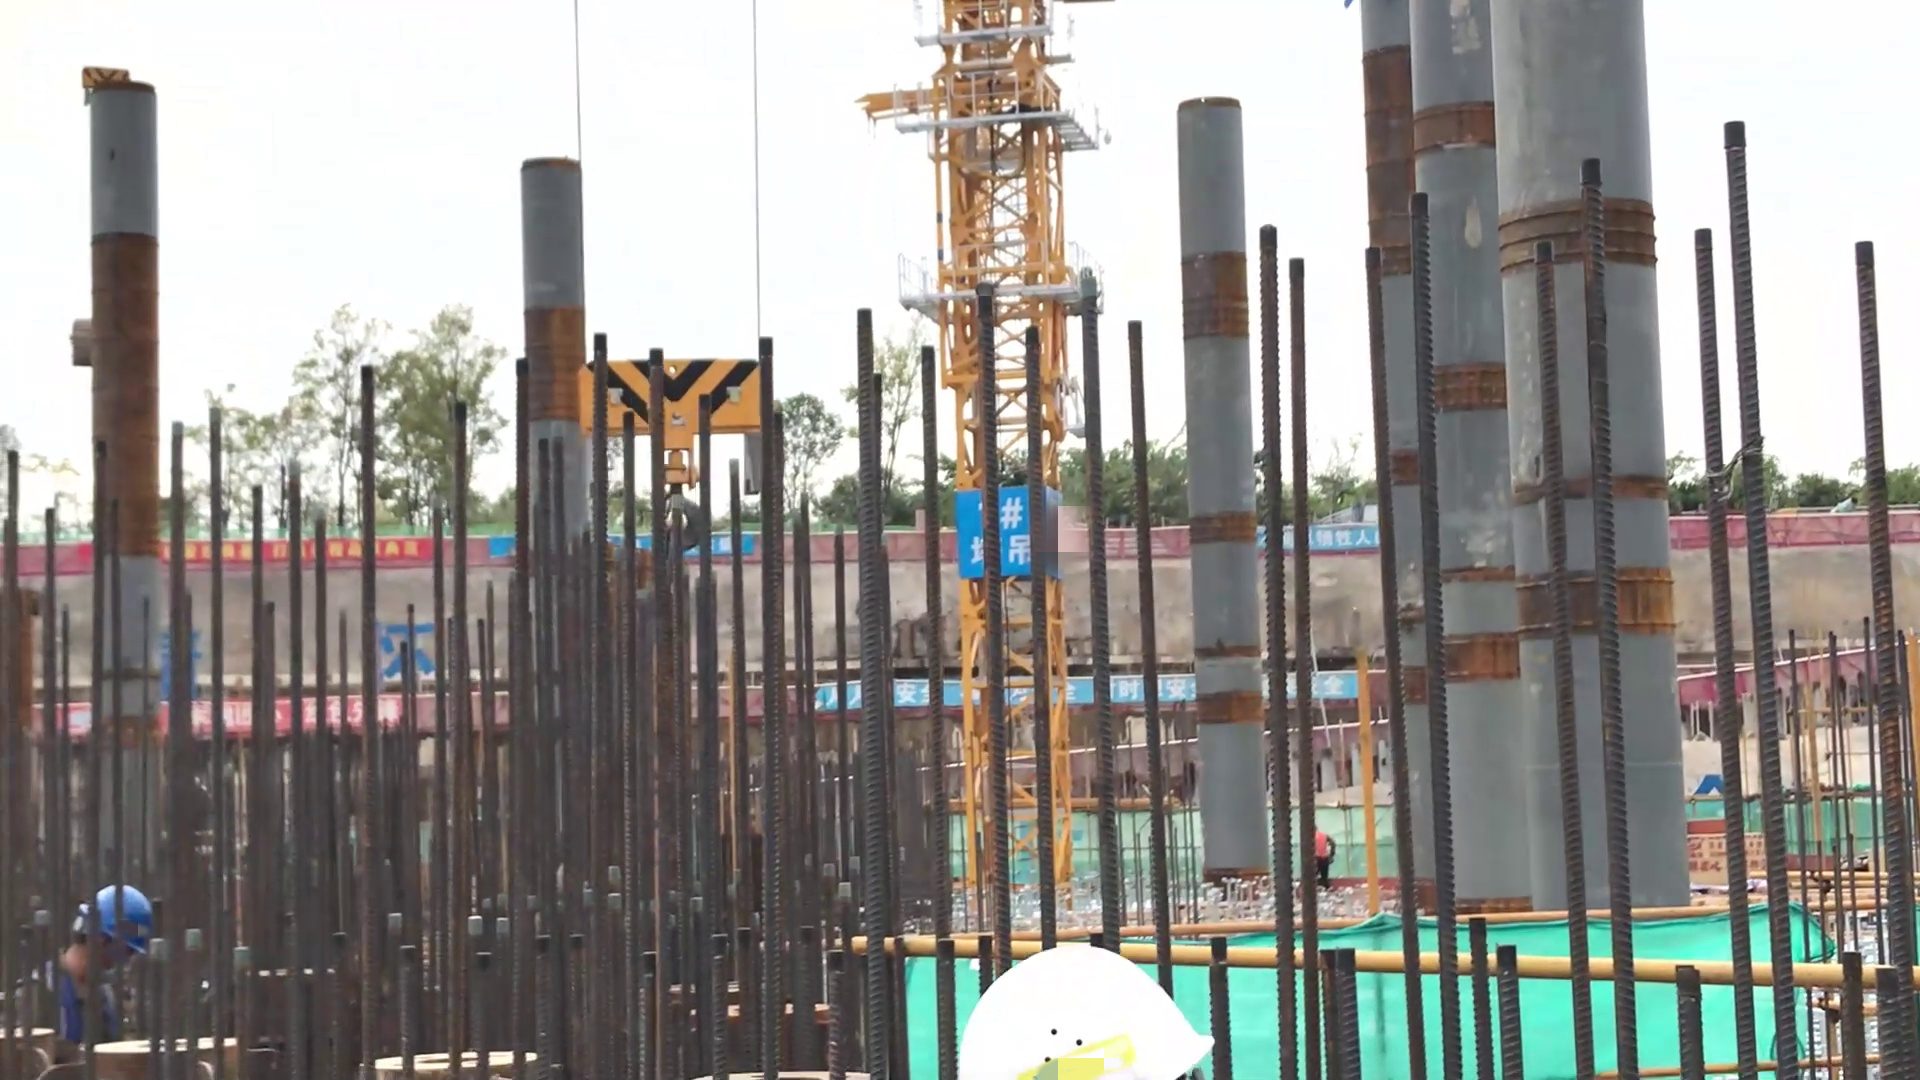fence: (1, 510, 1920, 579), (36, 667, 1384, 738)
helmet: (946, 933, 1223, 1080), (73, 877, 162, 953)
hook: (571, 343, 760, 512)
person: (15, 888, 172, 1055), (1310, 817, 1342, 896)
slogan: (162, 537, 430, 559), (619, 535, 762, 560), (1267, 525, 1379, 545)
vest: (23, 958, 132, 1046), (1314, 832, 1333, 860)
